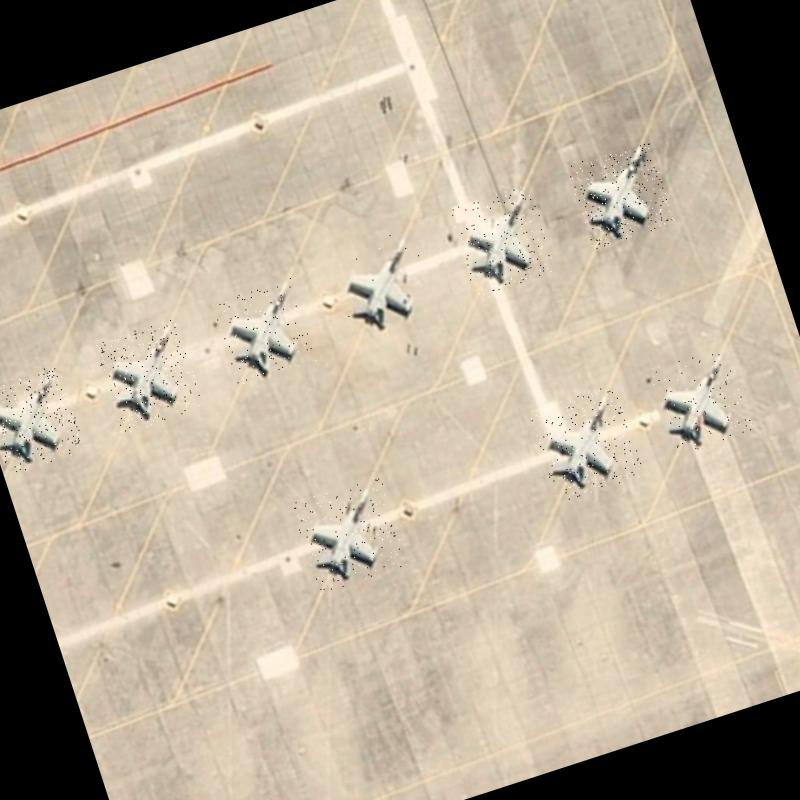A16: (528, 382, 646, 504), (290, 475, 410, 594), (326, 227, 439, 342), (94, 318, 204, 434), (448, 184, 558, 297), (566, 139, 676, 250), (210, 276, 318, 386), (649, 344, 755, 456), (0, 363, 86, 475)
